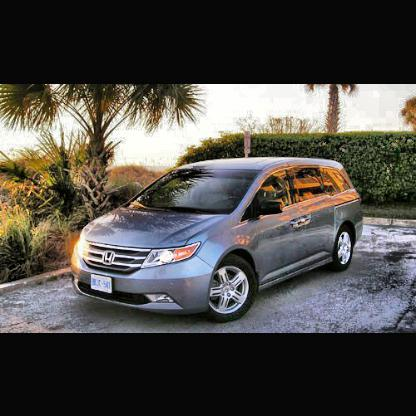Honda Odyssey Minivan 2012: (71, 158, 365, 327)
